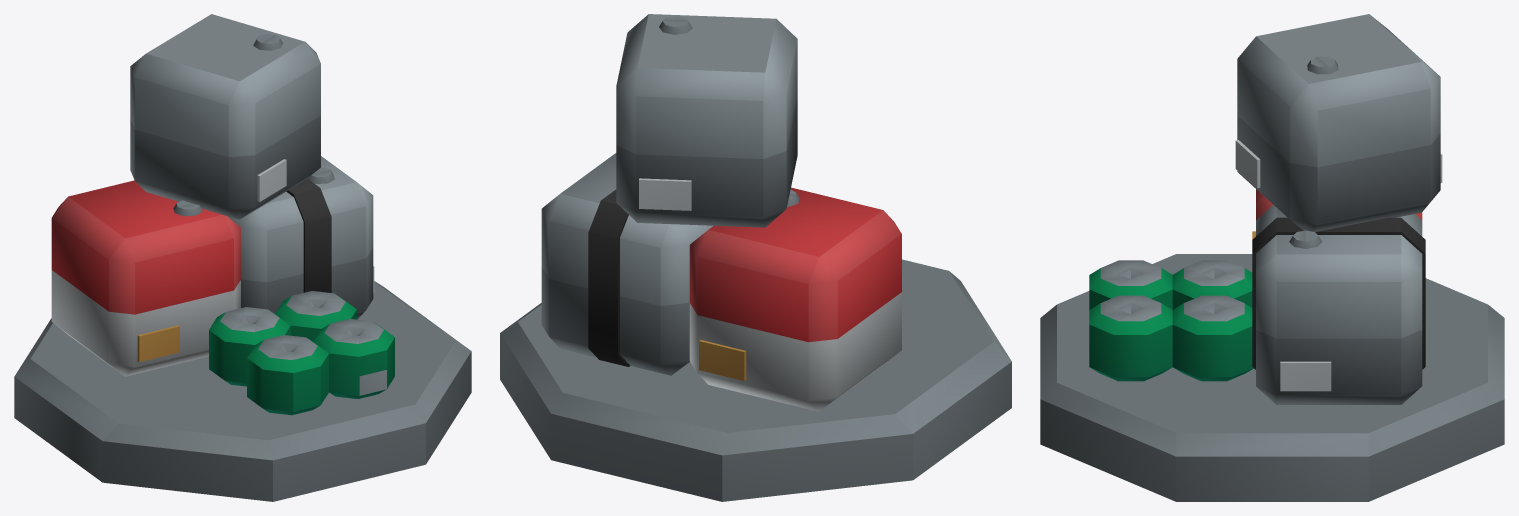
File: space-roofmodule-cargo-b.glb
3 renders of one model, left to right at view 1: azimuth 30°, elevation 25°; view 2: azimuth 150°, elevation 25°; view 3: azimuth 270°, elevation 25°, orthographic. The views are drawn at different scales.
Visible parts, largest first — view 1: roofmodule_cargo_B; view 2: roofmodule_cargo_B; view 3: roofmodule_cargo_B.
Boxes of the visible parts, x1=… form: roofmodule_cargo_B: x1=14, y1=14, x2=471, y2=501; roofmodule_cargo_B: x1=500, y1=14, x2=1011, y2=501; roofmodule_cargo_B: x1=1040, y1=14, x2=1504, y2=501.
Size of the model in its own units: 1.4 by 1.22 by 1.4.
